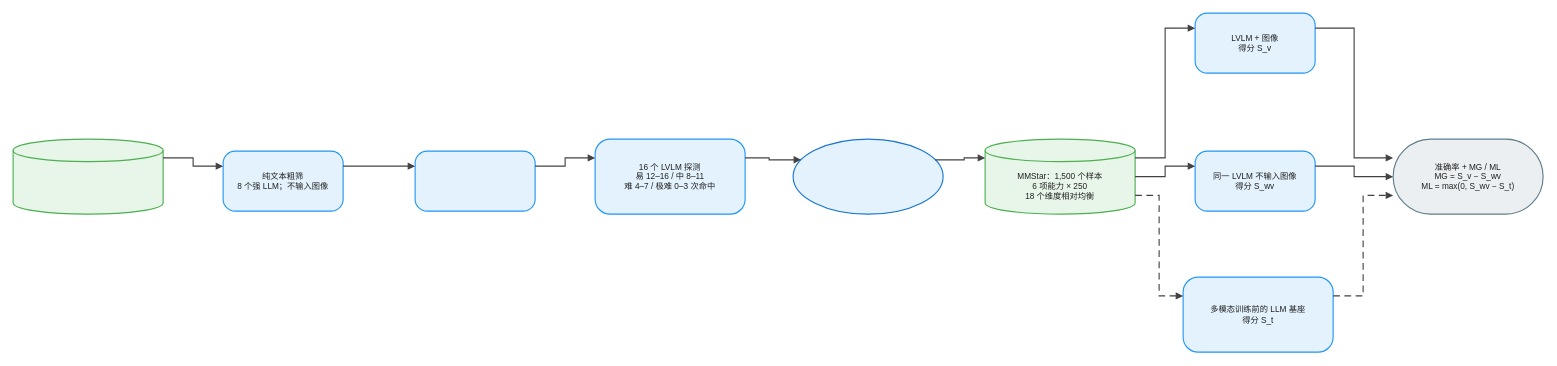
This 1557x366 diagram has some shape labels left out. Each missing label, with the centre of its shape:
LLM 命中数 ≤2 才保留 22,401 → 11,607: point (474, 180)
三位专家审核 视觉依赖 最小泄漏 + 高级能力 能力覆盖: point (867, 176)
六个来源基准 MMBench / SEED / MMMU ScienceQA / AI2D / MathVista 22,401 个样本: point (87, 176)
